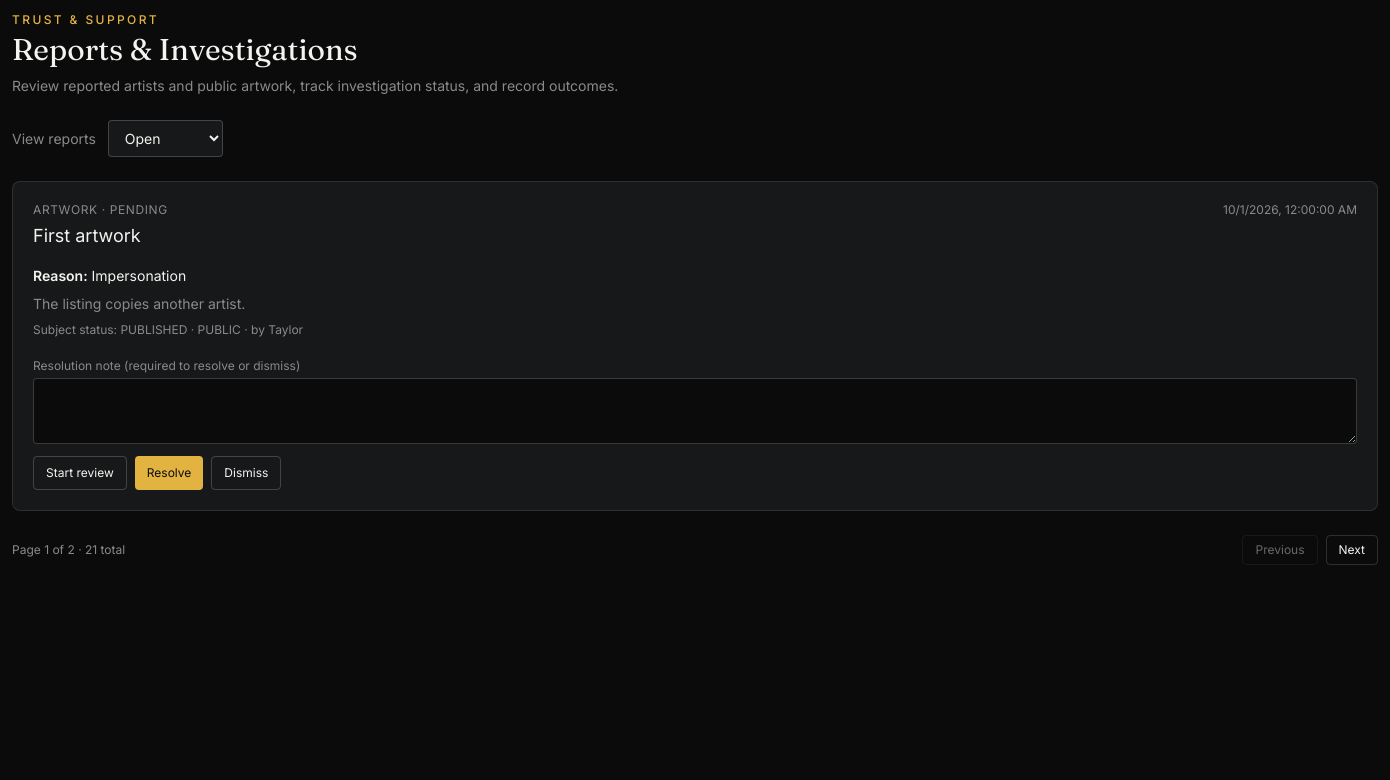
admin reports page › falls back to the previous valid page when moderation empties the last page
The image size is (1390, 780).
Expected: the heading "First artwork" is shown, [33,225,141,246]
Click the button "Next". click: coordinates (1352, 550)
box: [1326,535,1378,565]
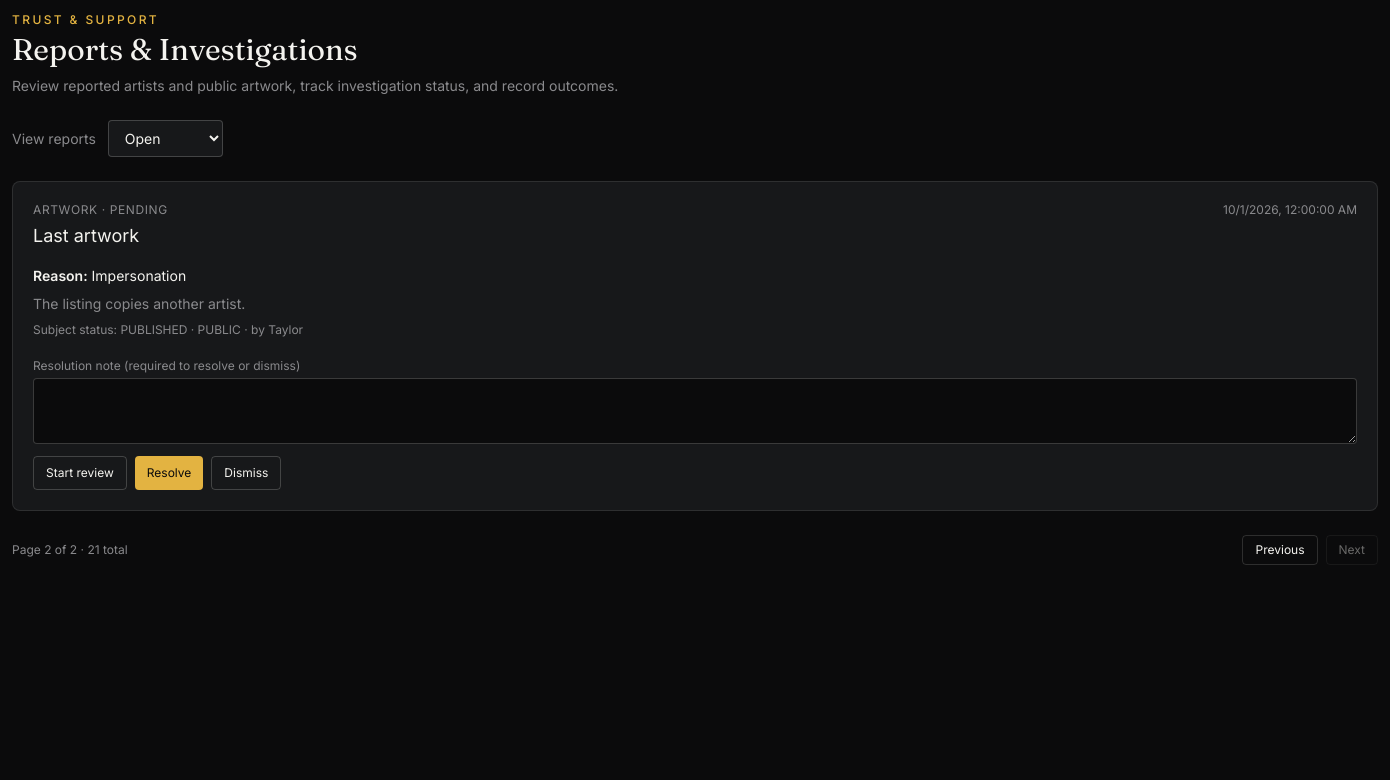
Expected: the heading "Last artwork" is shown, [33,225,139,246]
Type "Confirmed the policy breach." into the text box labelled "Resolution note (required to resolve or dismiss)". click: coordinates (695, 411)
box: [33,378,1357,444]
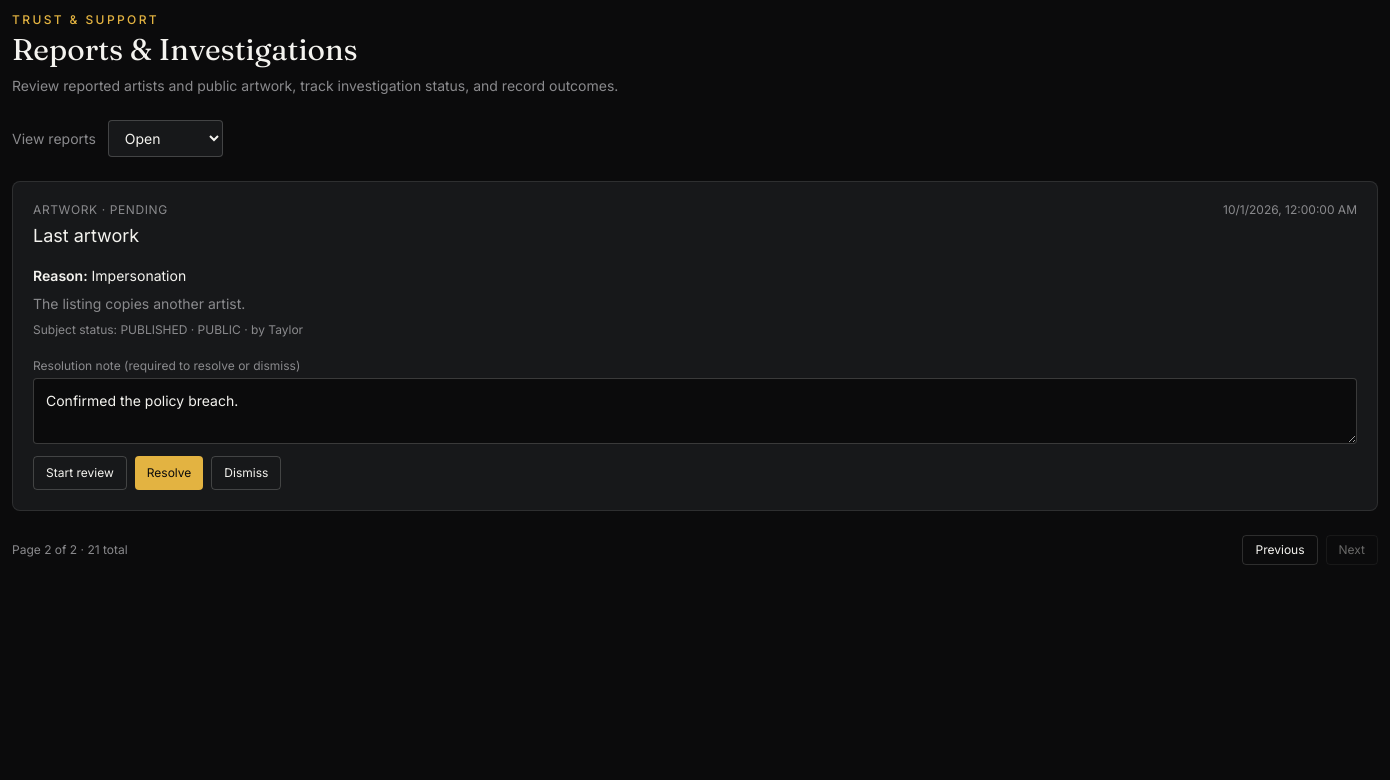
Click the button "Resolve". click: coordinates (169, 473)
box: [135,456,203,490]
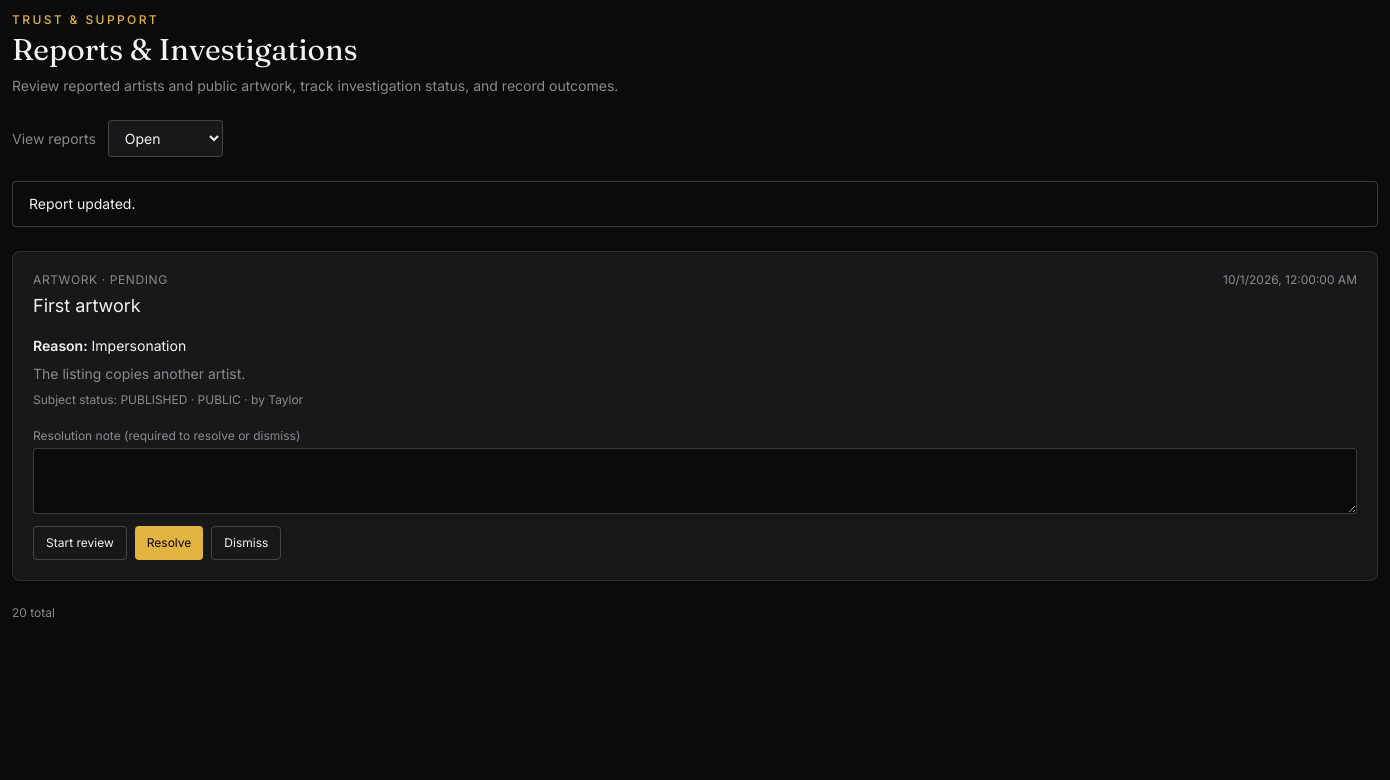
Expected: the heading "First artwork" is shown, [33,295,141,316]
Expected: the heading "Last artwork" is gone
